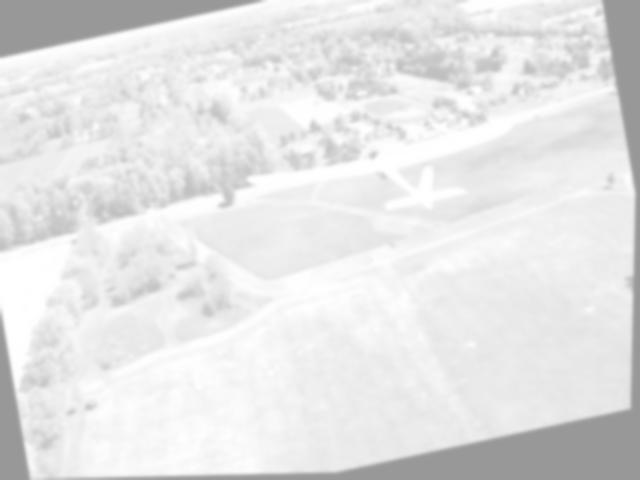hedef: (234, 103, 534, 258)
